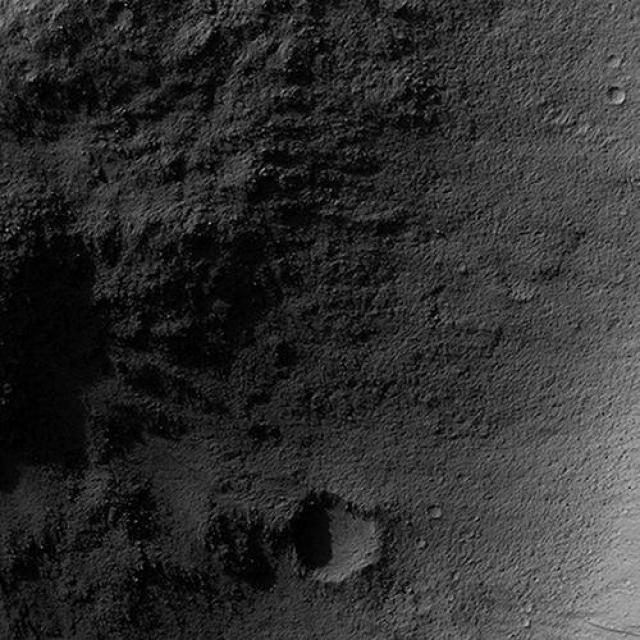crater: (0, 19, 100, 287), (274, 479, 392, 595)
